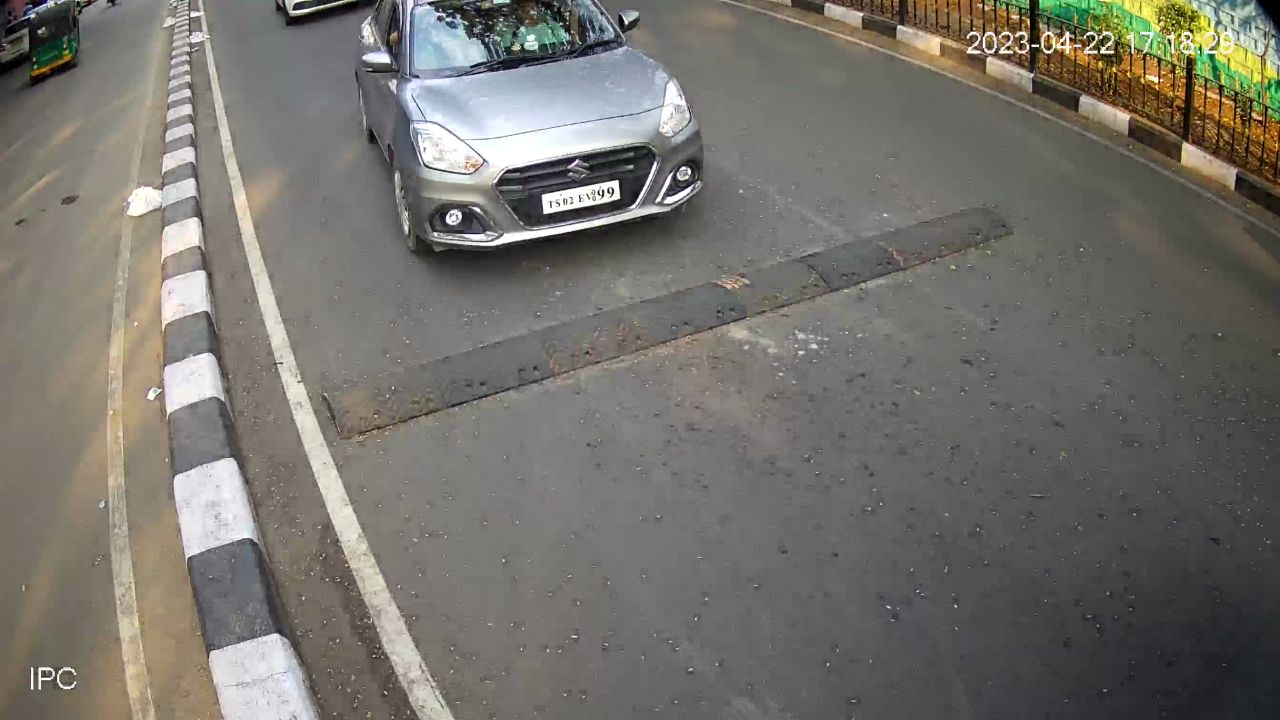license_plate: (535, 174, 624, 220)
